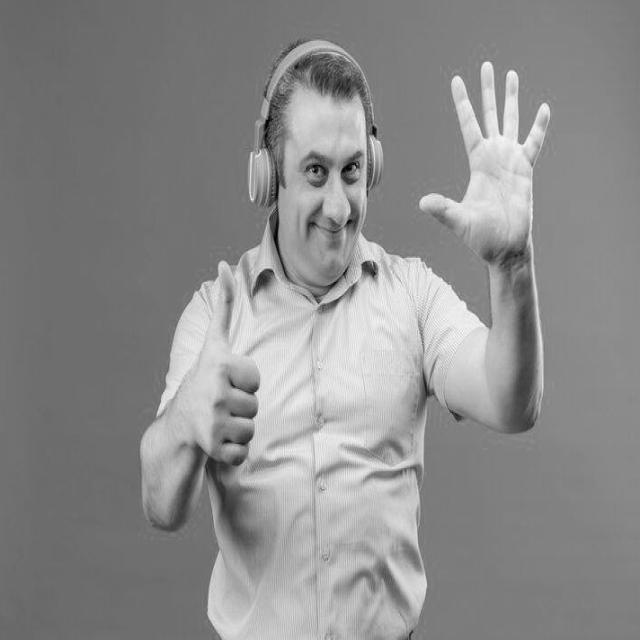stop: (414, 55, 555, 272)
